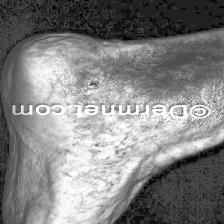Non-Cancerous Skin Condition: (39, 46, 224, 96), (28, 128, 114, 224)
